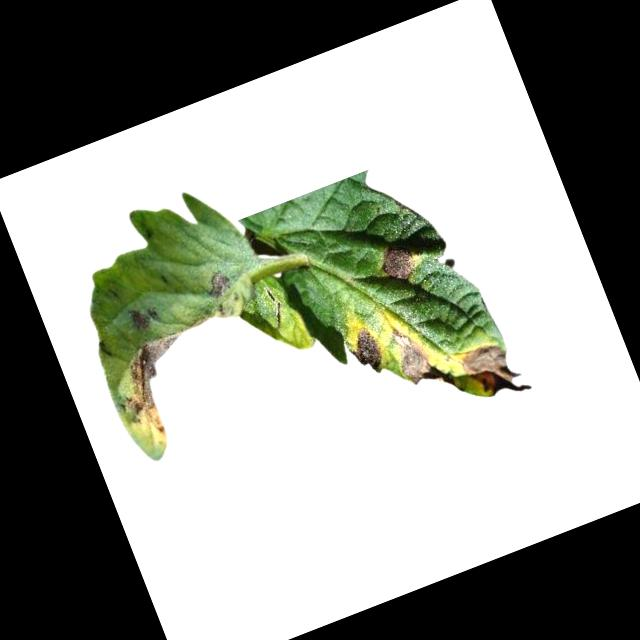Early_blight: (101, 327, 215, 452), (456, 336, 532, 412), (387, 315, 453, 402), (346, 323, 389, 380), (377, 242, 418, 284), (125, 302, 161, 334), (206, 270, 232, 299)
